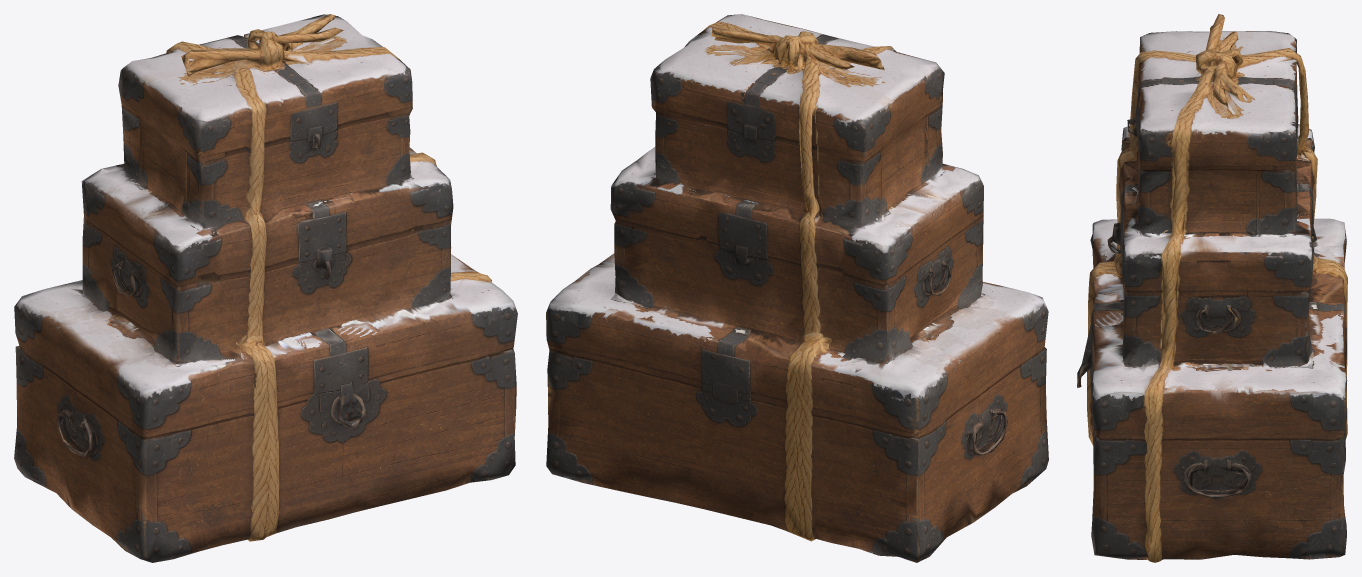
The model's file is PR_Chests.fbx.
The picture shows the model from 3 angles, left to right: view 1: azimuth 30°, elevation 25°; view 2: azimuth 150°, elevation 25°; view 3: azimuth 270°, elevation 25°; orthographic projection. The views are drawn at different scales.
Parts seen in each view (by area): view 1: texture_mapping; view 2: texture_mapping; view 3: texture_mapping.
Part boxes in pixels (x1=…): texture_mapping: x1=14, y1=14, x2=517, y2=562; texture_mapping: x1=546, y1=14, x2=1048, y2=562; texture_mapping: x1=1077, y1=14, x2=1347, y2=562.
Size of the model in its own units: 0.9118 by 0.5686 by 0.9951.
Materials: 1 (1 with a texture image).
